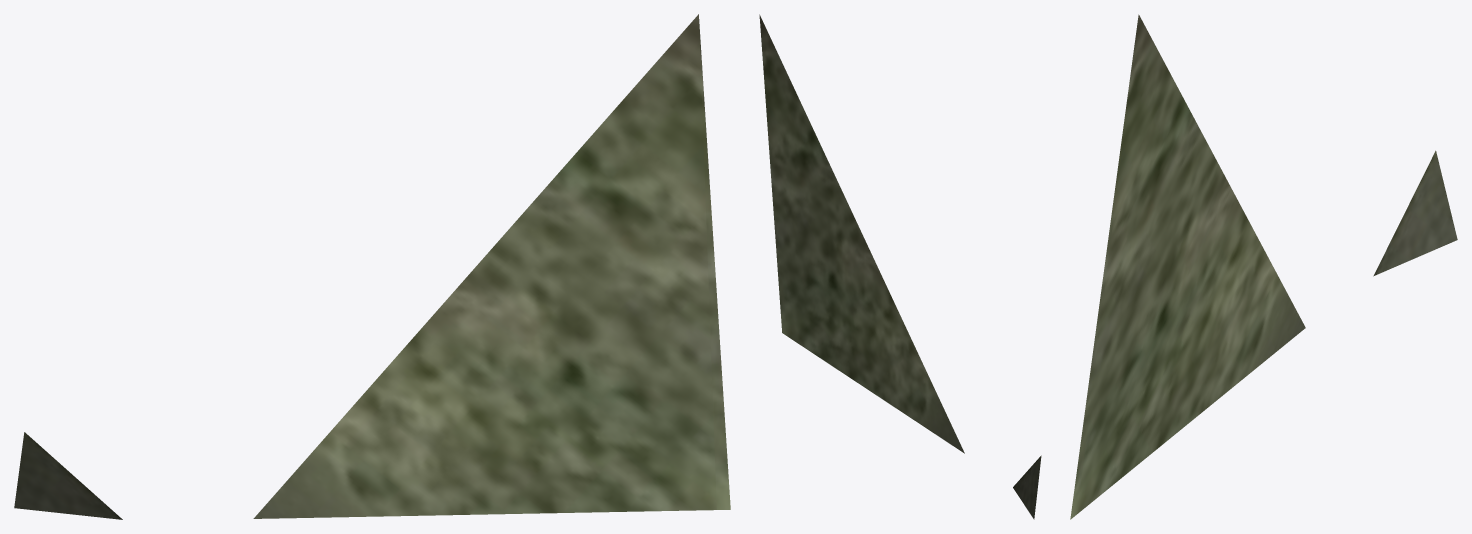
The picture shows the model from 3 angles, left to right: view 1: azimuth 30°, elevation 25°; view 2: azimuth 150°, elevation 25°; view 3: azimuth 270°, elevation 25°; orthographic projection. The views are drawn at different scales.
Size of the model in its own units: 2.95 by 2.49 by 1.72.
Materials: 1 (1 with a texture image).
